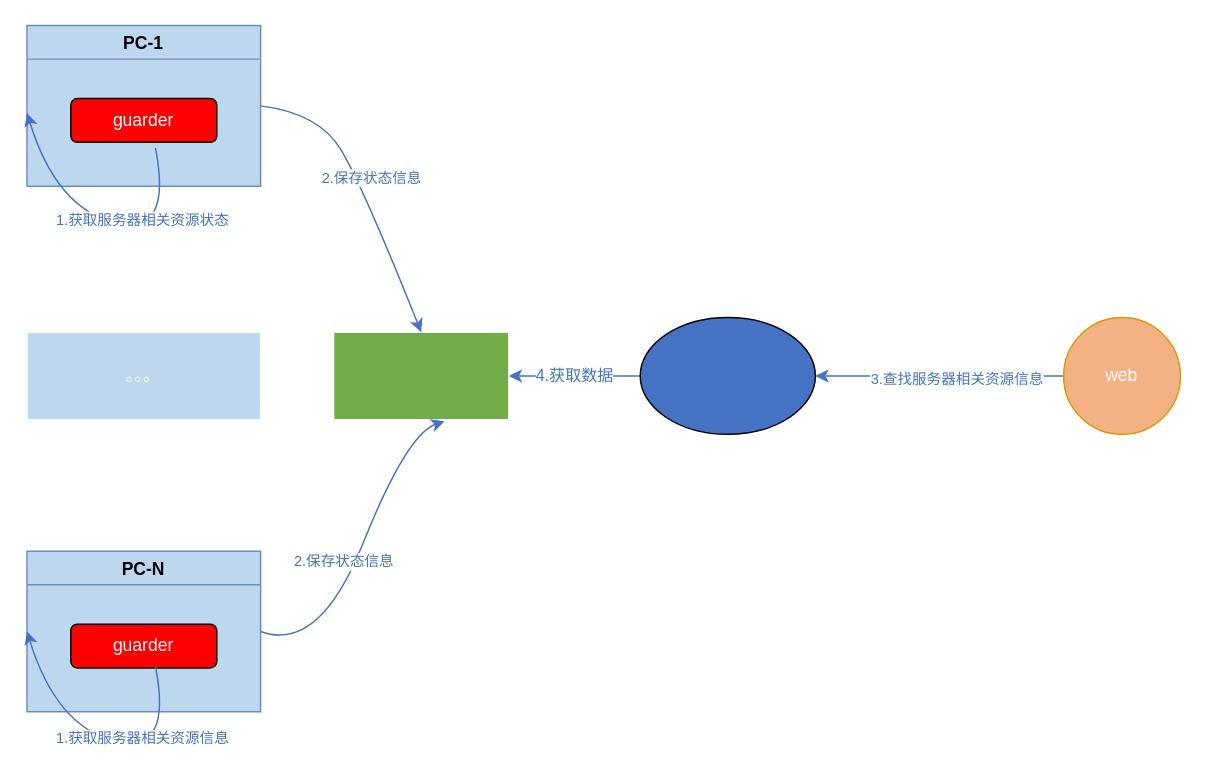
The diagram is 1206 pixels wide and 775 high, and some of its shapes have lost their labels. Each missing label, with the centre of its shape:
maintenance: the point at 727,375
状态中心: the point at 420,375
